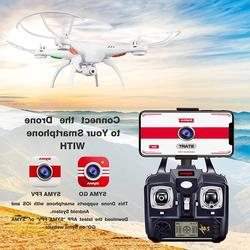drone: (5, 10, 181, 86)
